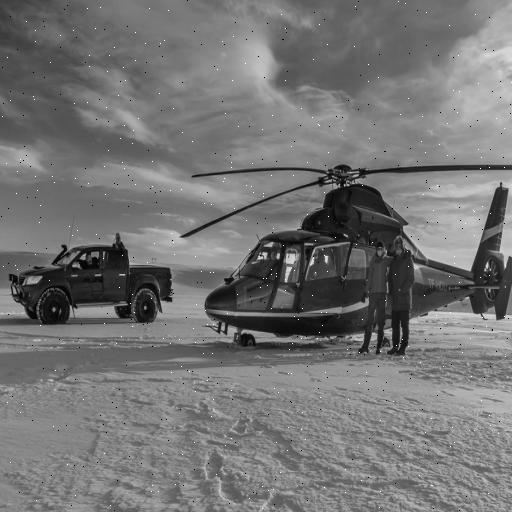helicopter: (179, 147, 512, 354)
